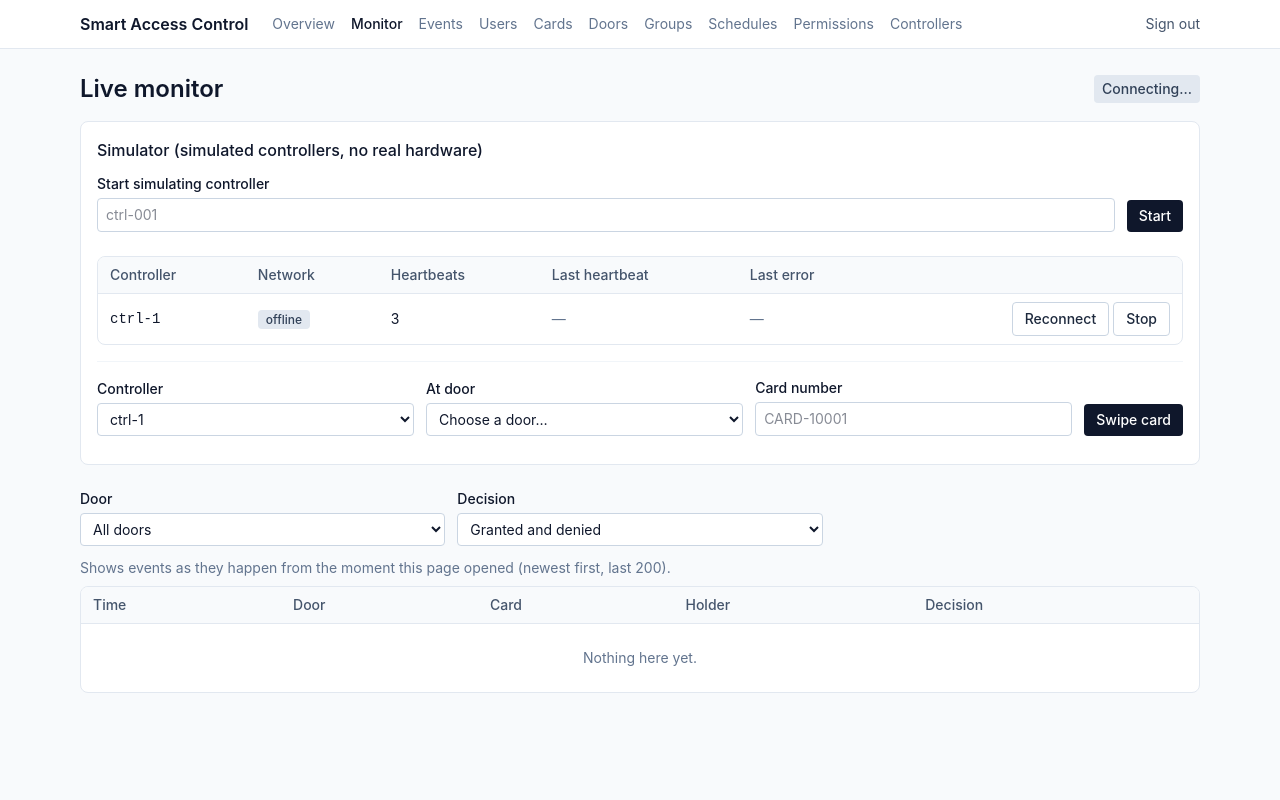
simulator panel › shows the offline error when the simulated network is down
Select "Main Entrance" in the dropdown labelled "At door": (585, 420) [426, 403, 743, 436]
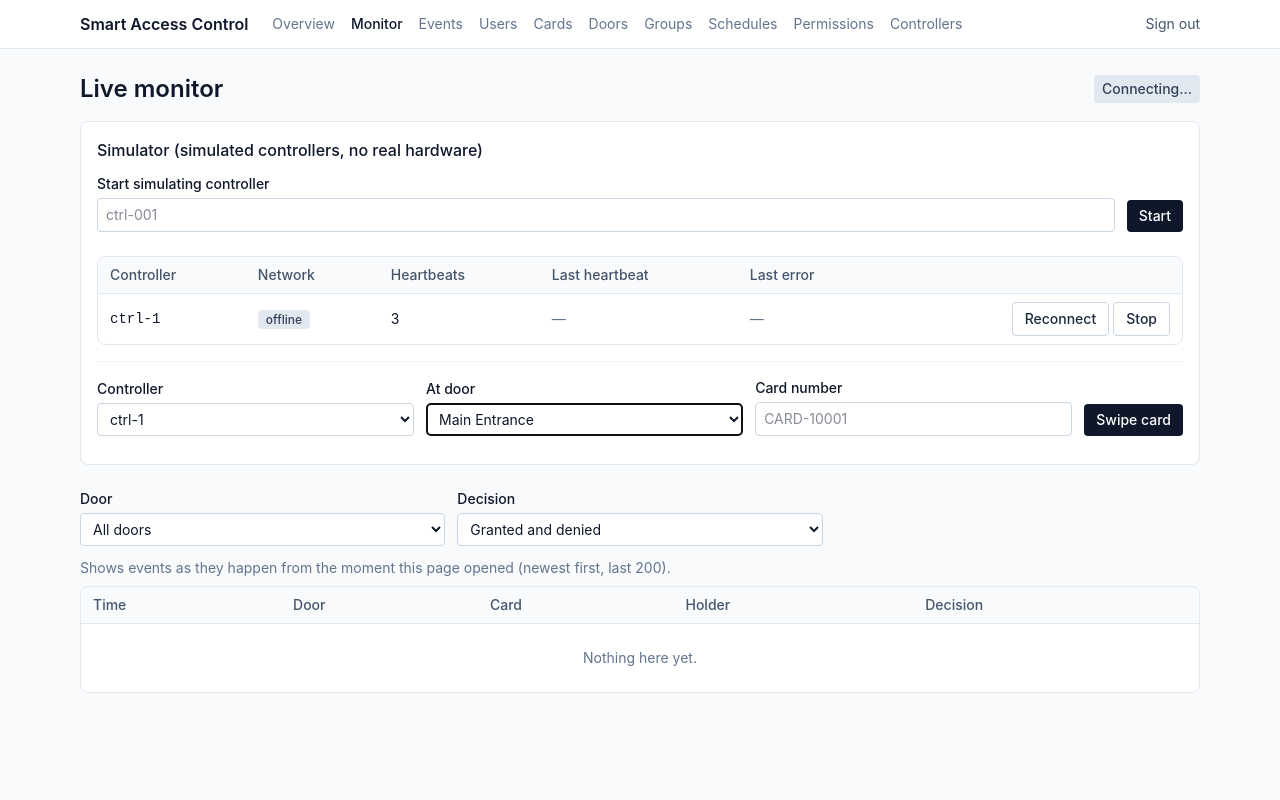
In the field labelled "Card number": (914, 419) [755, 402, 1072, 436], type "CARD-1"
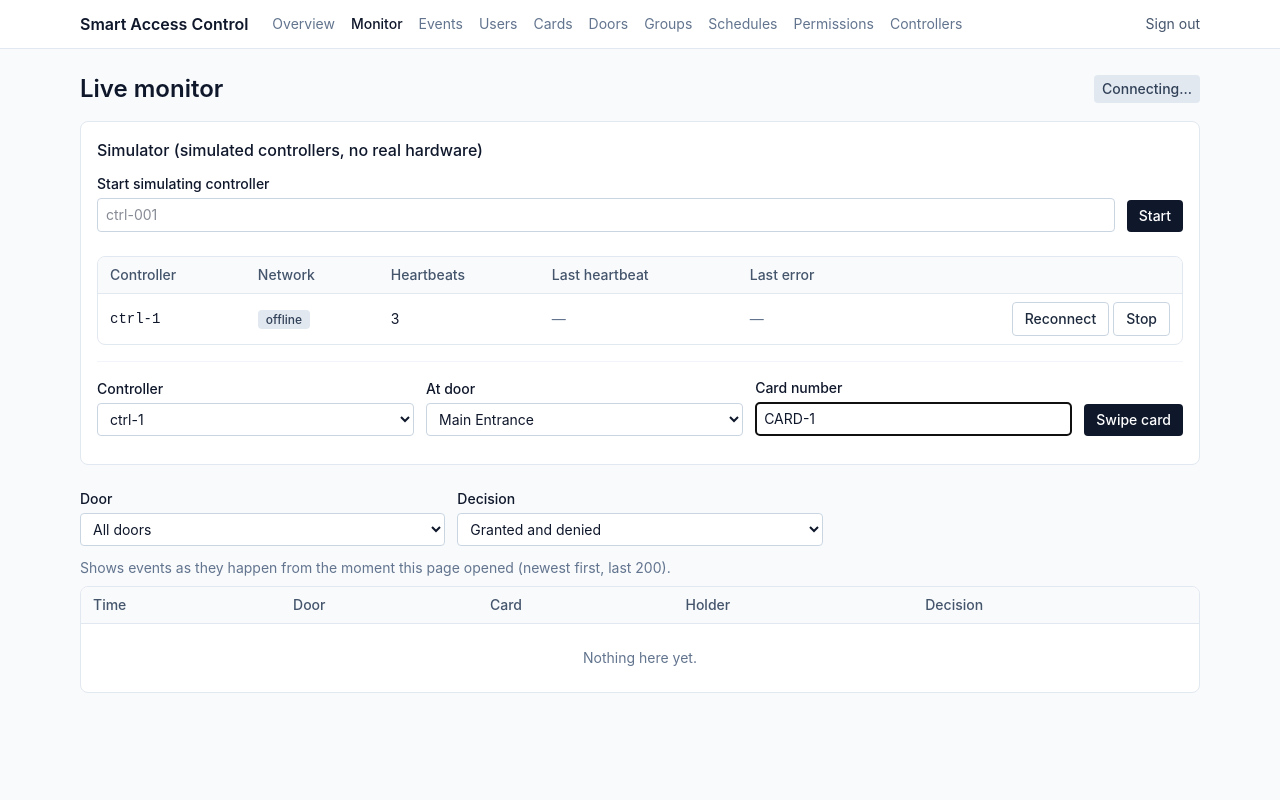
Click the button "Swipe card": click(1134, 420) [1084, 404, 1183, 436]
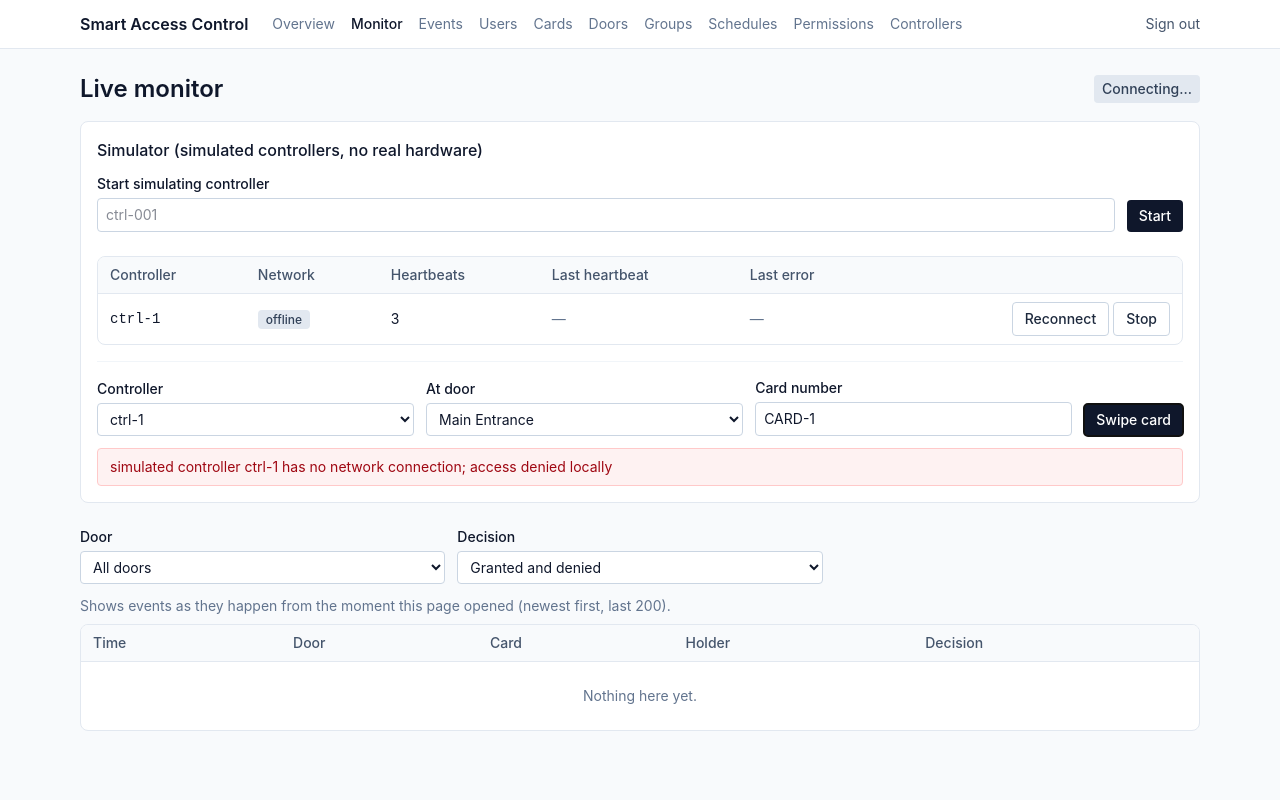
Expected: the button "Reconnect" is shown, [1012, 302, 1109, 336]
Expected: the text "simulated controller ctrl-1 has no network connection; access denied locally" is shown, [97, 448, 1183, 486]
